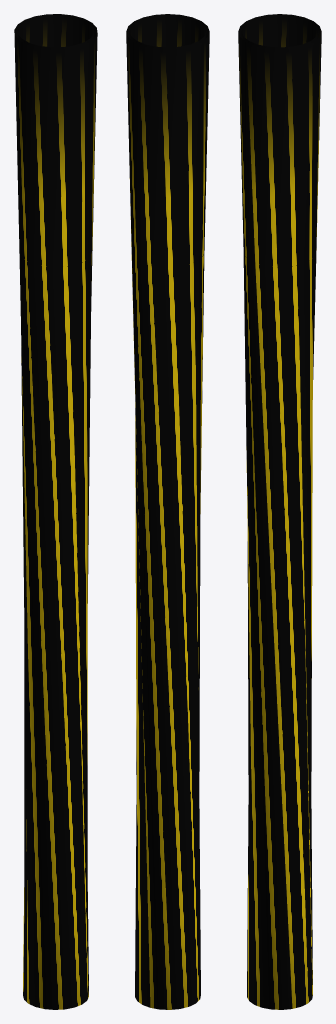
The model's file is box_eff.fbx.
3 renders of one model, left to right at view 1: azimuth 90°, elevation 25°; view 2: azimuth 150°, elevation 25°; view 3: azimuth 330°, elevation 25°, orthographic.
Parts seen in each view (by area): view 1: pCylinder1, pCylinder2; view 2: pCylinder1, pCylinder2; view 3: pCylinder1, pCylinder2.
Boxes of the visible parts, left/top/right/bottom form: pCylinder1: left=14, top=14, right=97, bottom=1009; pCylinder2: left=17, top=15, right=94, bottom=48; pCylinder1: left=126, top=14, right=209, bottom=1009; pCylinder2: left=129, top=15, right=206, bottom=49; pCylinder1: left=238, top=14, right=321, bottom=1009; pCylinder2: left=241, top=15, right=318, bottom=49.
Size of the model in its own units: 1.01 by 12.94 by 1.01.
